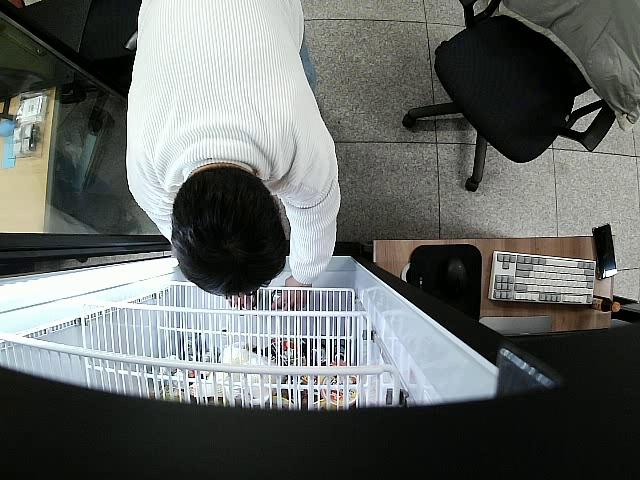00_hand: (273, 275, 313, 309), (226, 294, 254, 313)
